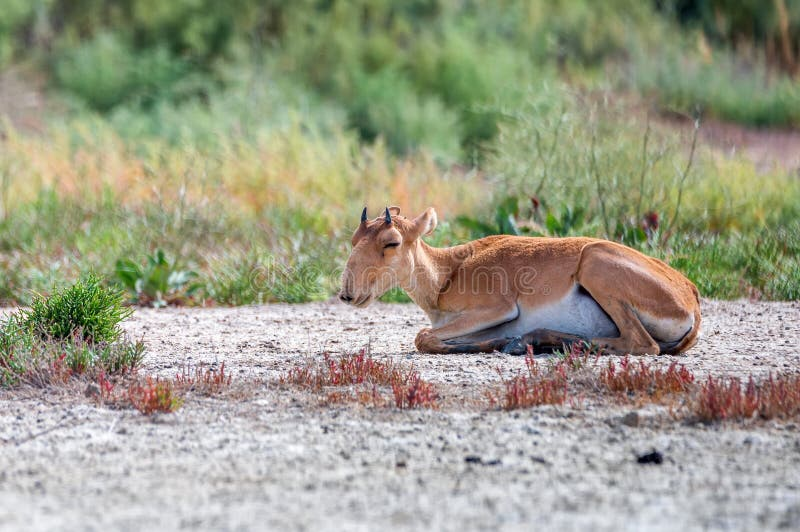saiga: (335, 205, 709, 367)
